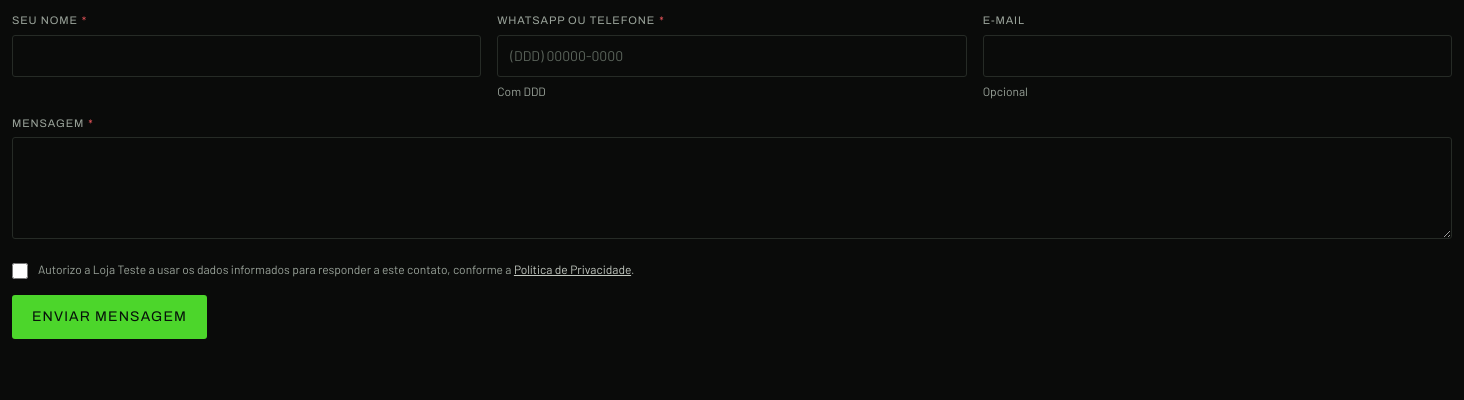
Scenario: formulários de lead › ContactForm › vazio: mostra os erros e não envia
Click the button "Enviar mensagem" at (110, 317), box [12,295,207,339]
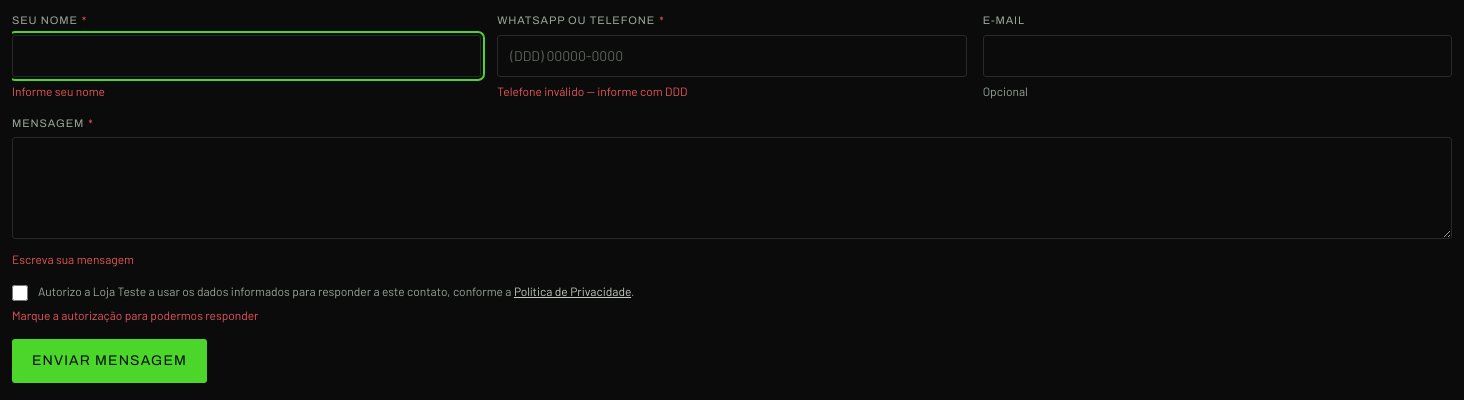
Now the text "Marque a autorização para podermos responder" is shown, box [12,308,258,322]
Now the text "Escreva sua mensagem" is shown, box [12,252,134,266]
